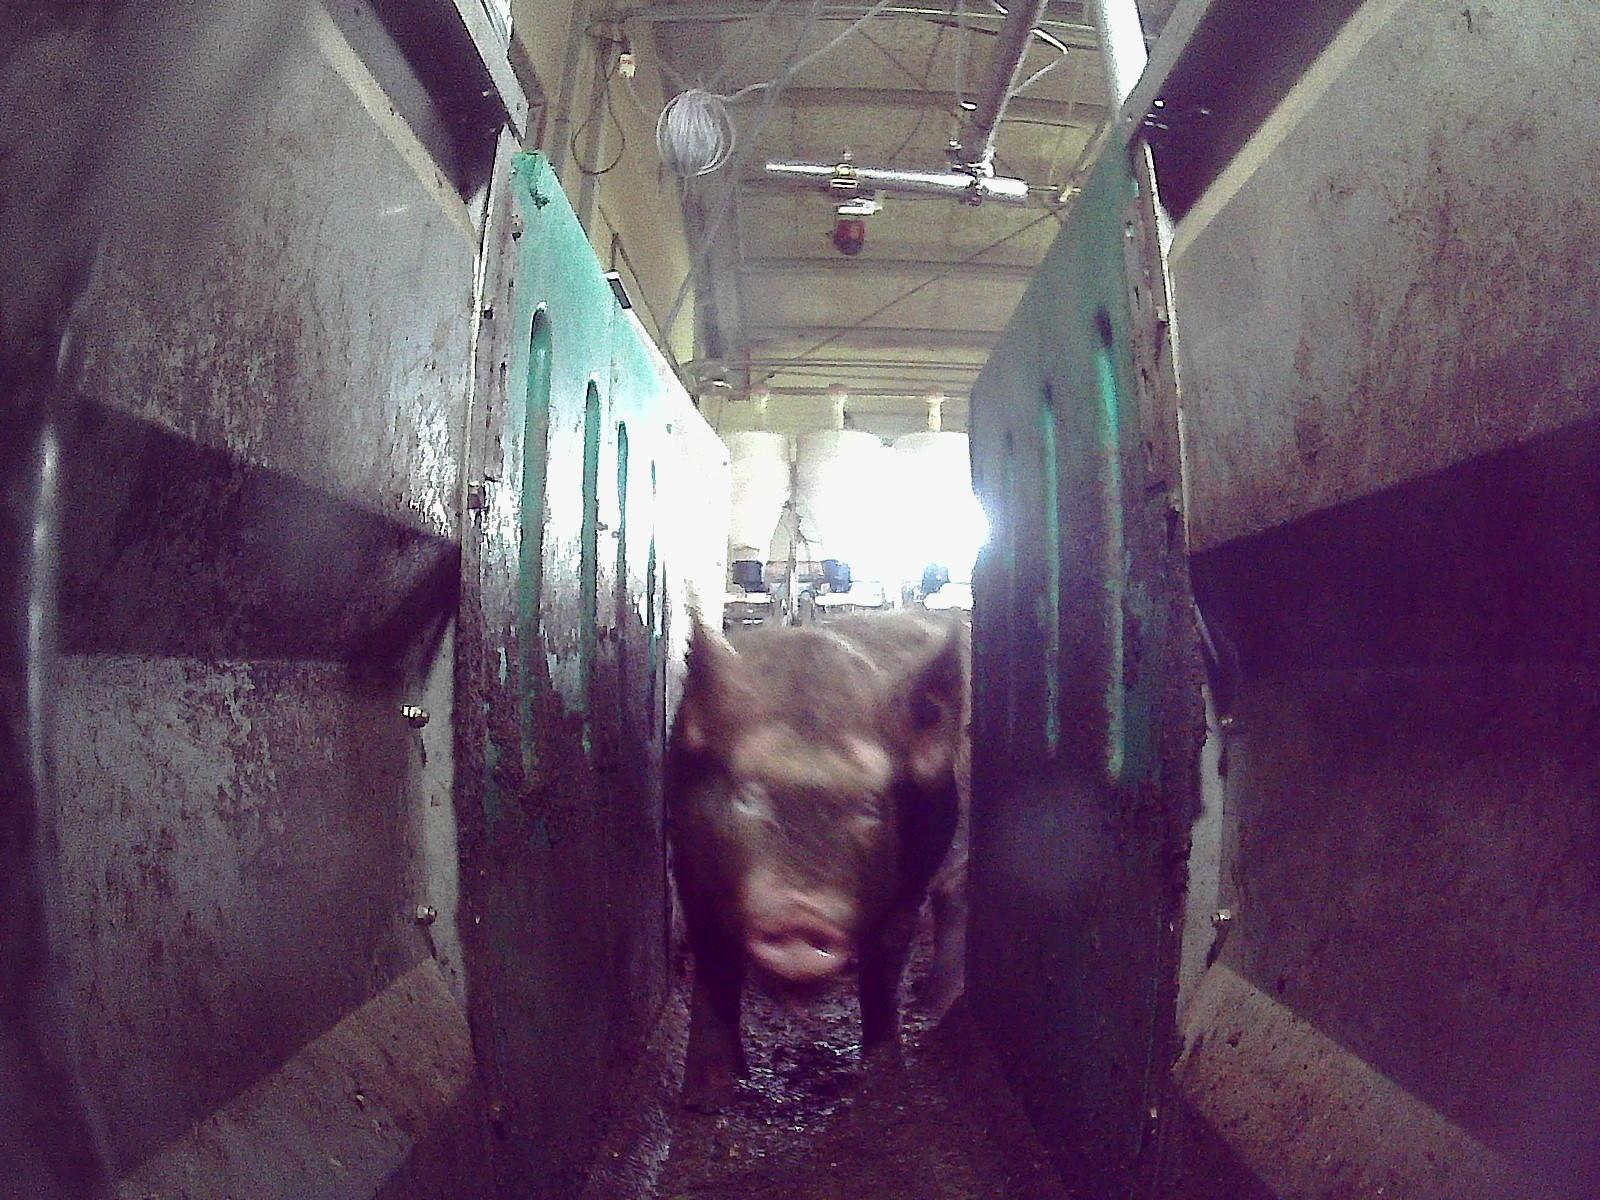Face: (679, 669, 901, 986)
